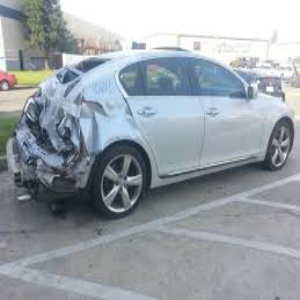bumper: (13, 126, 86, 196)
